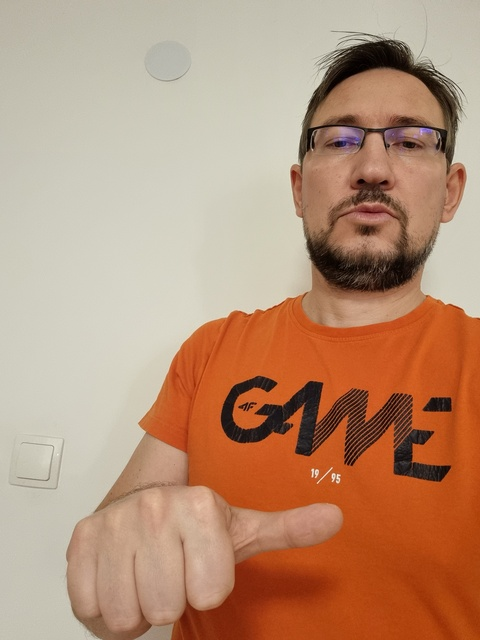GestBack: (66, 486, 344, 633)
